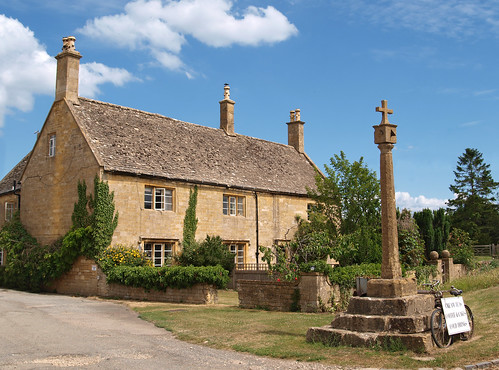medium: (2, 32, 344, 303)
